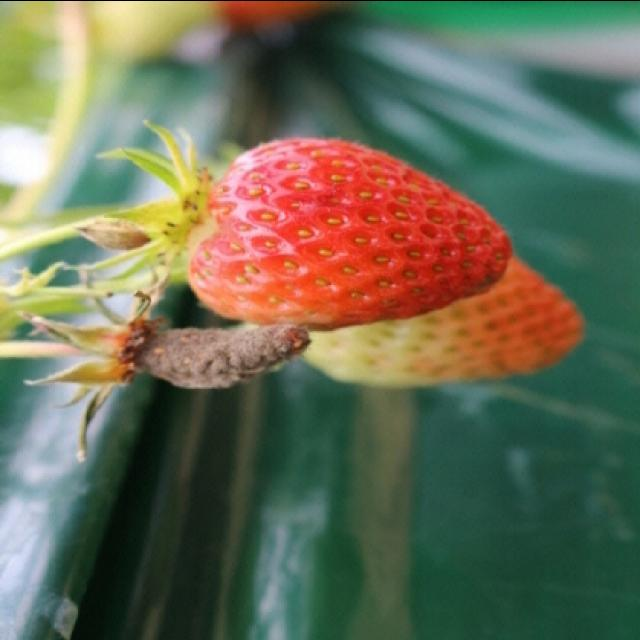Gray Mold: (115, 317, 313, 390)
